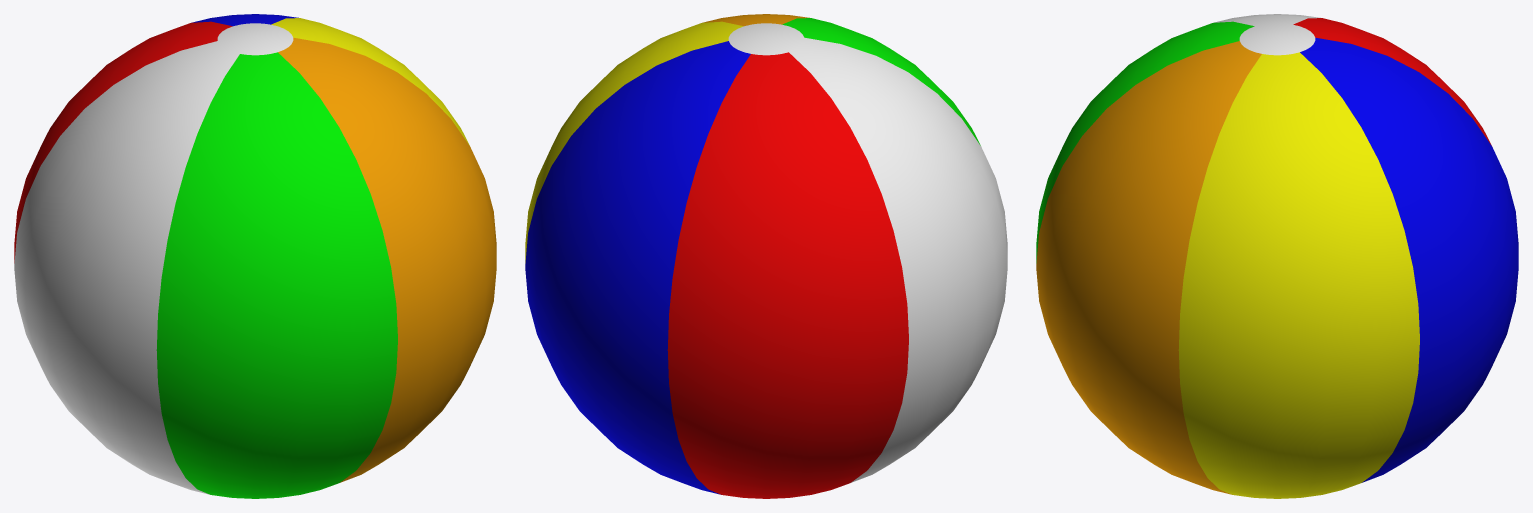
Rendered from beachBall.fbx.
3 views of the same model, side by side, from view 1: azimuth 30°, elevation 25°; view 2: azimuth 150°, elevation 25°; view 3: azimuth 270°, elevation 25° (orthographic).
Visible parts, largest first — view 1: beachBall; view 2: beachBall; view 3: beachBall.
Part boxes in pixels (left/top/right/bottom): beachBall: left=14, top=14, right=496, bottom=498; beachBall: left=525, top=14, right=1007, bottom=498; beachBall: left=1036, top=14, right=1518, bottom=498.
Bounding box in the file's own units: 100 × 100 × 99.45.
